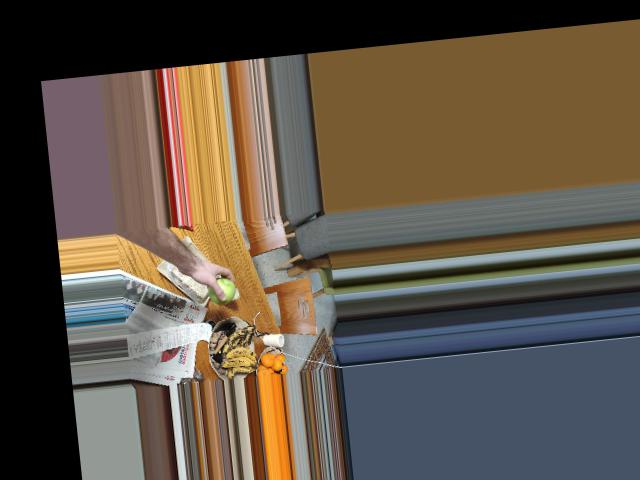apple: (205, 274, 238, 306)
